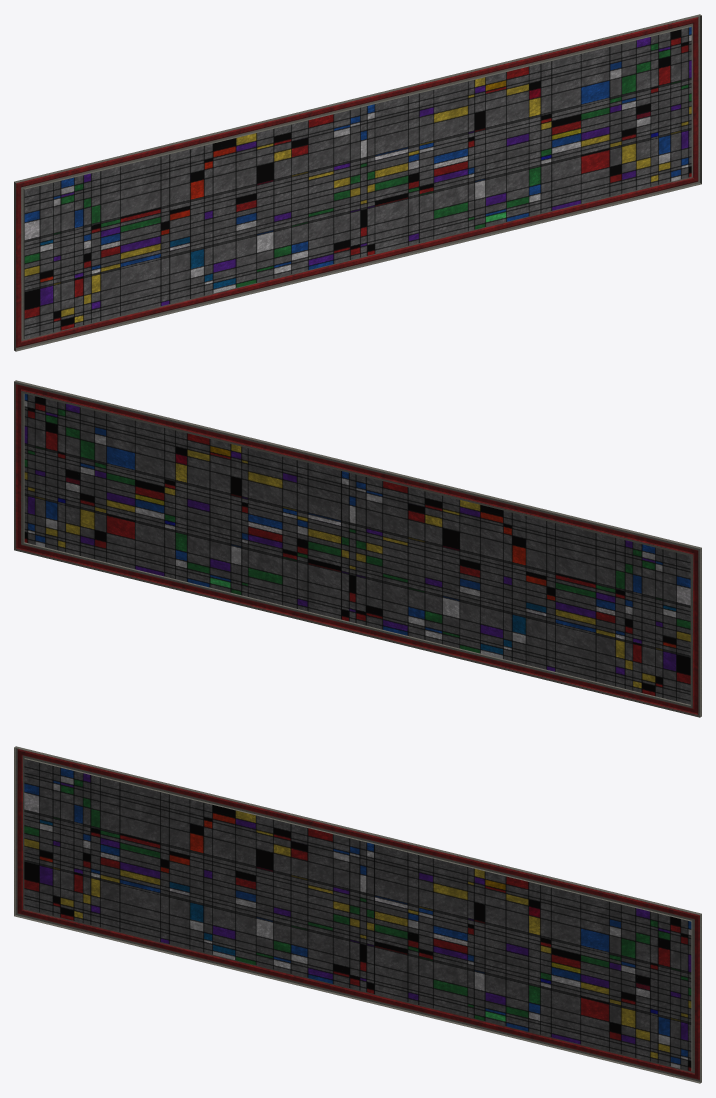
Rendered from Painting_SuperWide.fbx.
3 renders of one model, top to bottom at view 1: azimuth 30°, elevation 25°; view 2: azimuth 150°, elevation 25°; view 3: azimuth 330°, elevation 25°, orthographic.
Parts seen in each view (by area): view 1: Painting_Large_MasterBedroom; view 2: Painting_Large_MasterBedroom; view 3: Painting_Large_MasterBedroom.
Boxes of the visible parts, bbox=[...] form: Painting_Large_MasterBedroom: bbox=[14, 14, 701, 351]; Painting_Large_MasterBedroom: bbox=[14, 380, 701, 717]; Painting_Large_MasterBedroom: bbox=[14, 746, 701, 1083].
Size of the model in its own units: 213 by 50 by 1.
